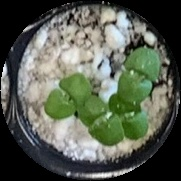Basil: (121, 47, 160, 103), (45, 74, 90, 122), (80, 94, 122, 145), (110, 97, 148, 139)
